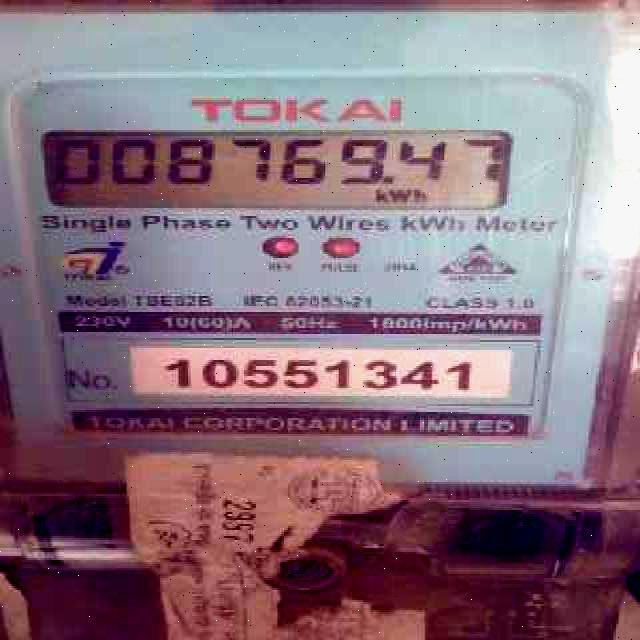LCD: (35, 119, 520, 220)
